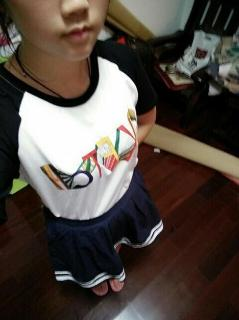short sleeve top: (0, 39, 164, 226)
skirt: (43, 168, 164, 288)
